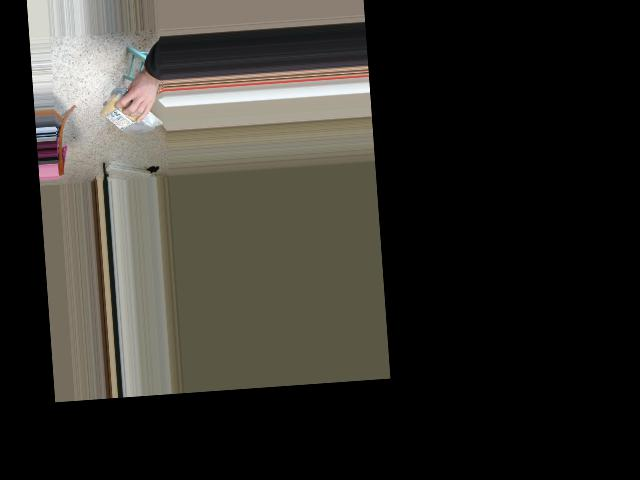cheese: (101, 95, 164, 132)
